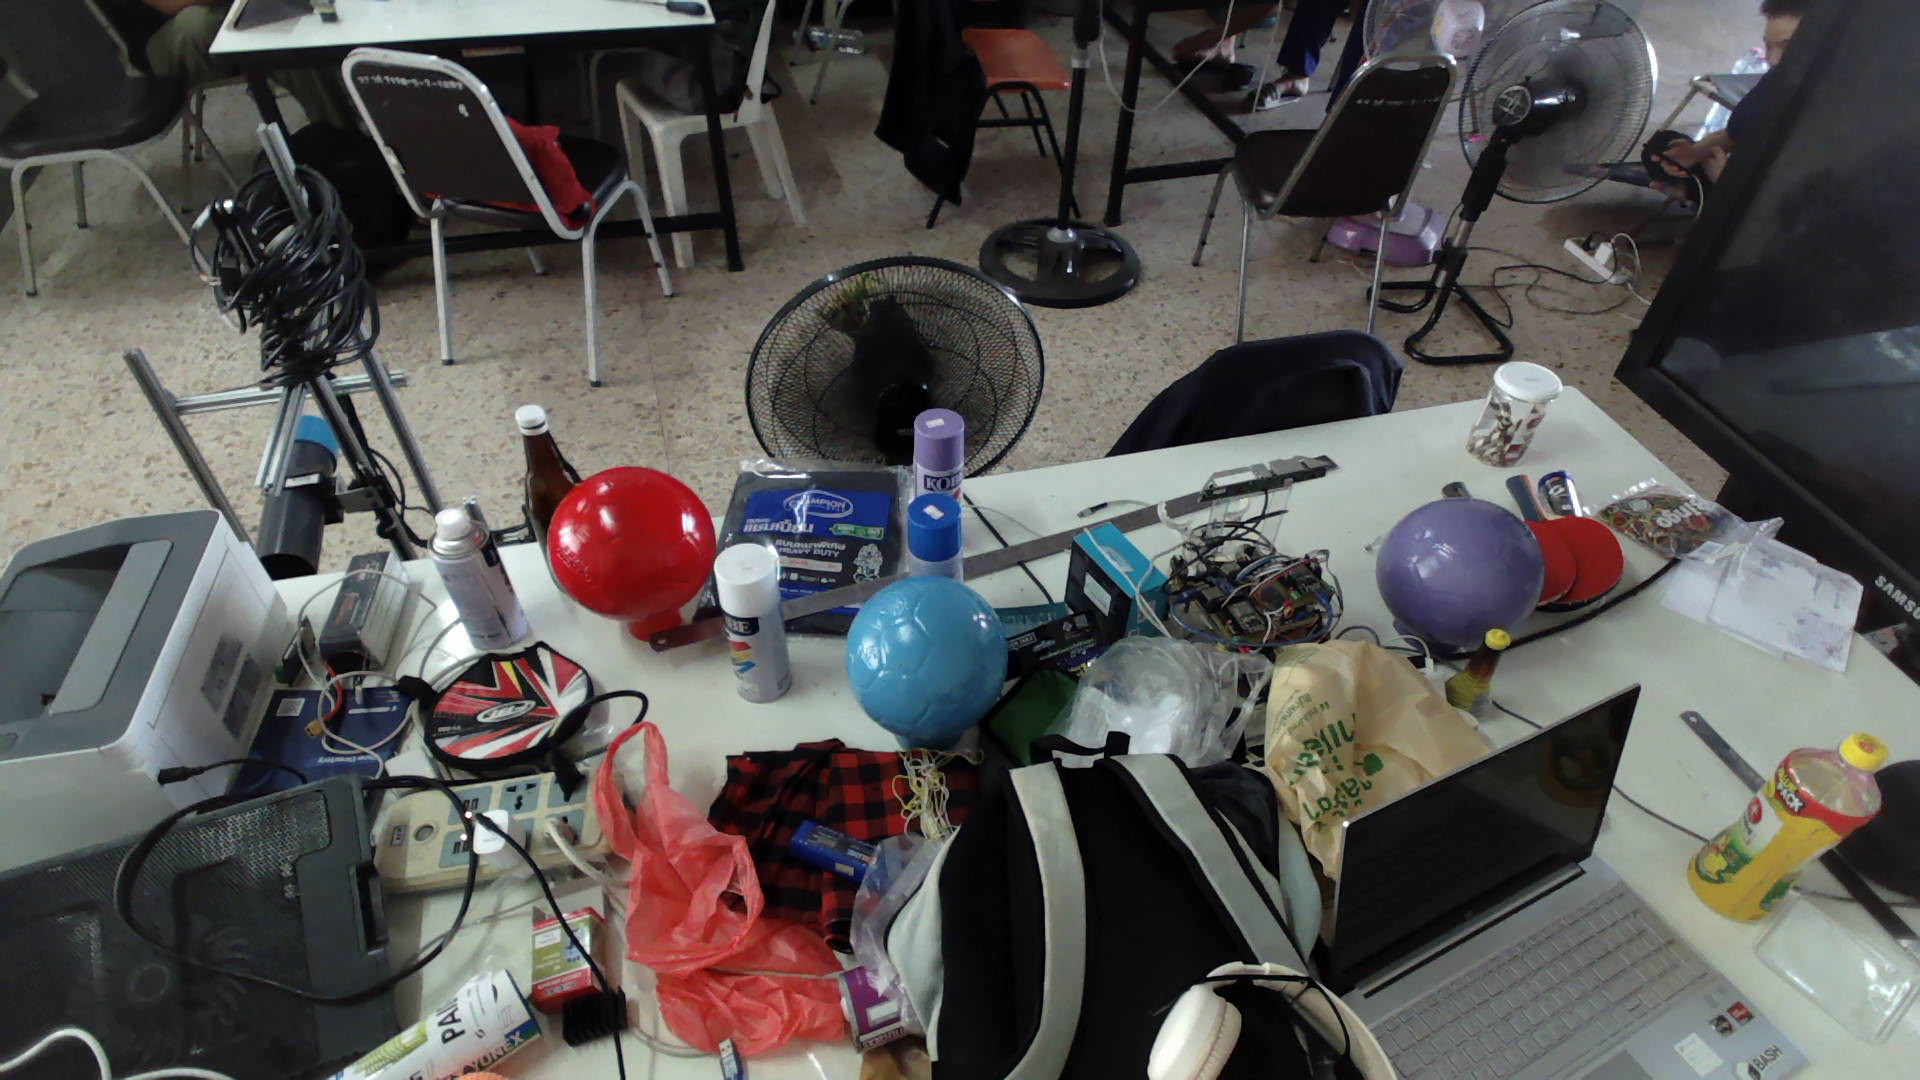Blue ball: (843, 574, 1007, 742)
Purple ball: (1374, 496, 1545, 647)
Red ball: (545, 464, 719, 621)
